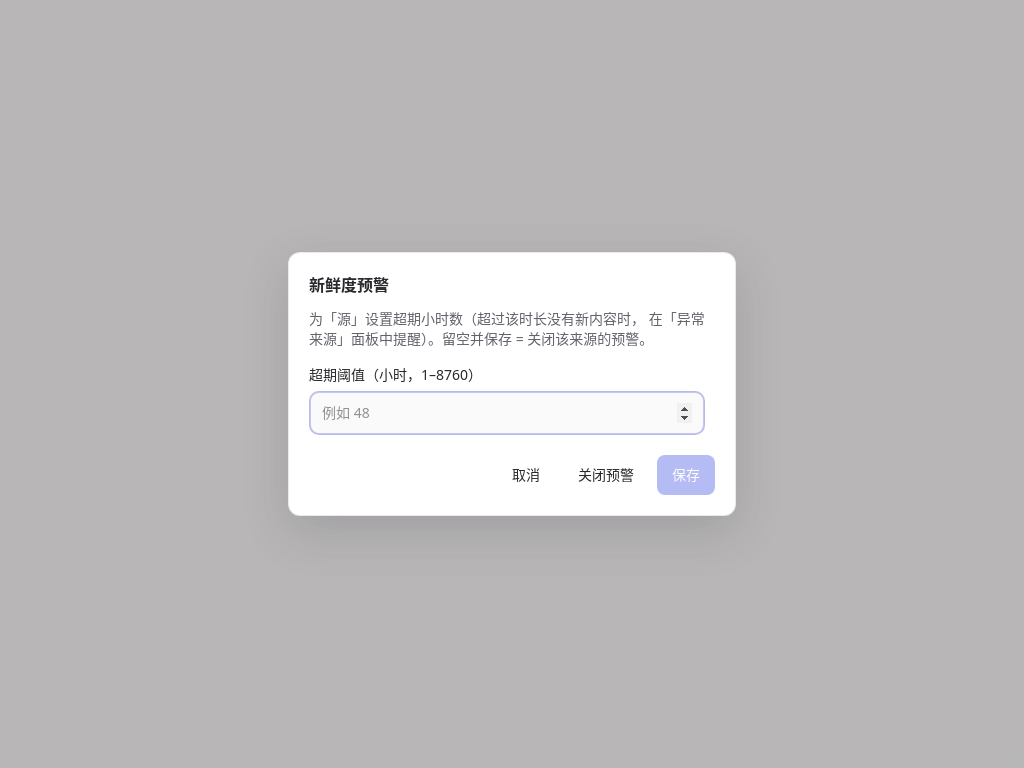
Test: F001 SourceStaleAlertDialog › F001: 非法输入阻止保存（0 / 非整数）
The width and height of the screenshot is (1024, 768).
In the number field labelled "超期阈值（小时，1–8760）": (507, 413) [309,391,705,435], type "0"
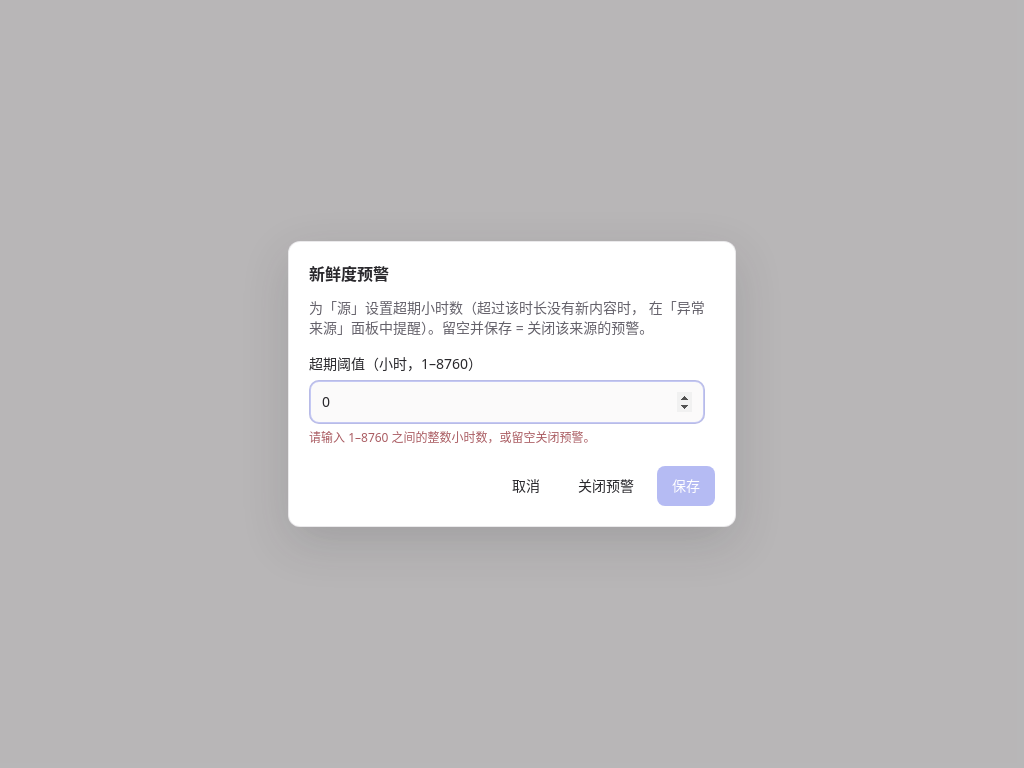
Expected: the button "保存" is disabled, [657,466,715,506]
Expected: the message "请输入 1–8760 之间的整数小时数，或留空关闭预警。" is shown, [309,429,596,446]
